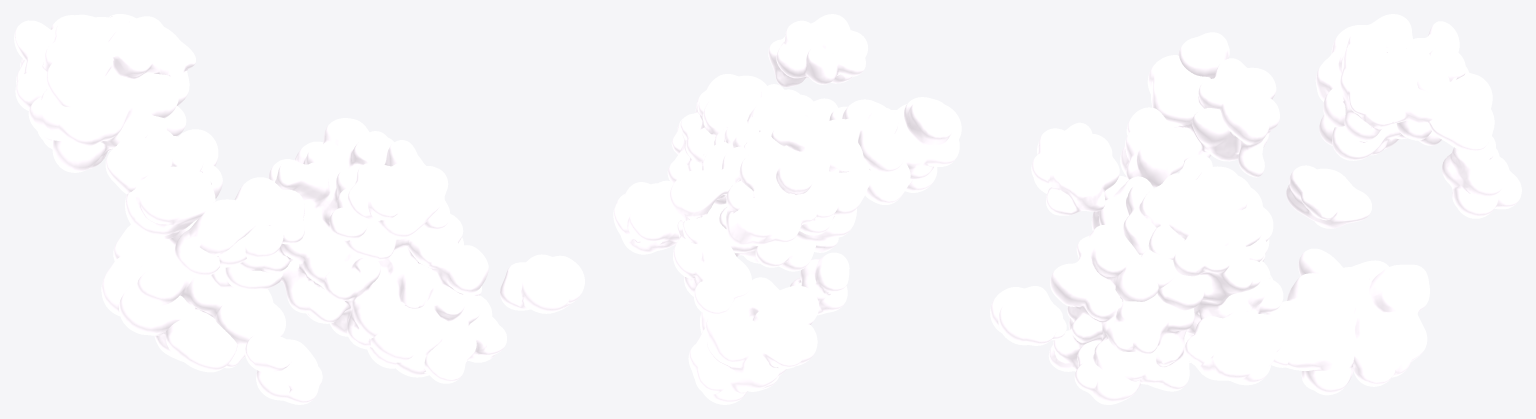
The model's file is clouds.glb.
3 renders of one model, left to right at view 1: azimuth 30°, elevation 25°; view 2: azimuth 150°, elevation 25°; view 3: azimuth 270°, elevation 25°, orthographic. The views are drawn at different scales.
Visible parts, largest first — view 1: defaultMaterial; view 2: defaultMaterial; view 3: defaultMaterial.
Part boxes in pixels (x1=…): defaultMaterial: x1=14, y1=14, x2=584, y2=404; defaultMaterial: x1=613, y1=14, x2=961, y2=404; defaultMaterial: x1=990, y1=14, x2=1521, y2=404.
Bounding box in the file's own units: 15.4 × 13.69 × 20.29.
1 material, 1 textured.
